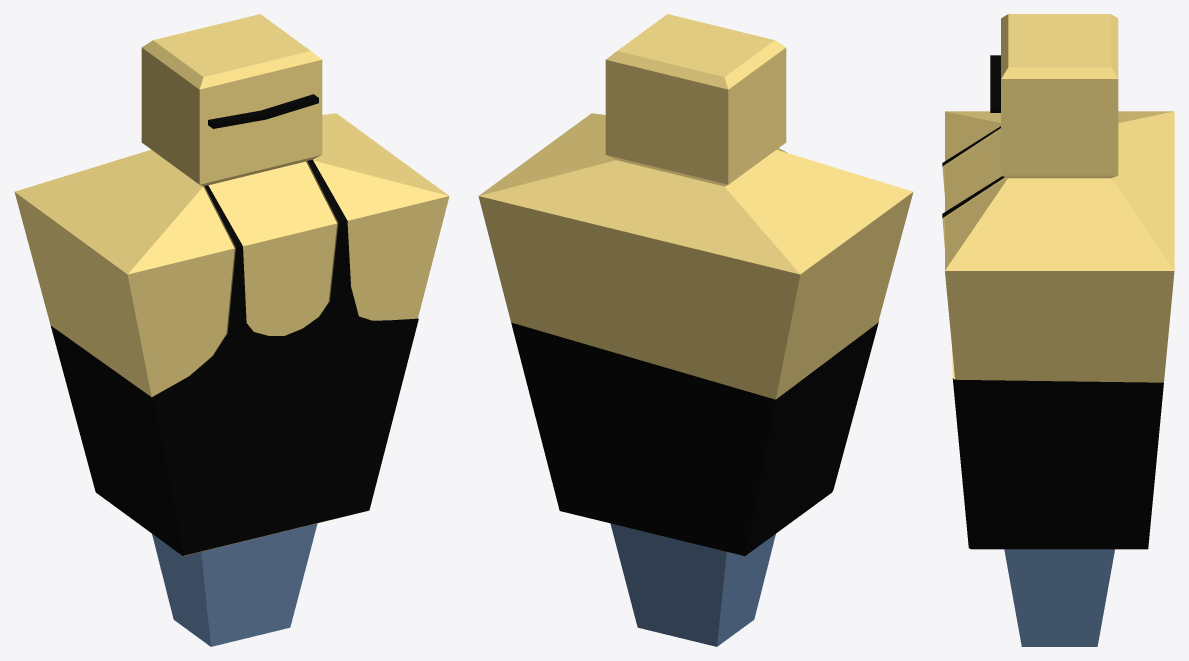
The model's file is Силач.fbx.
The picture shows the model from 3 angles, left to right: view 1: azimuth 30°, elevation 25°; view 2: azimuth 150°, elevation 25°; view 3: azimuth 270°, elevation 25°; orthographic projection.
Parts seen in each view (by area): view 1: Cube; view 2: Cube; view 3: Cube.
Part boxes in pixels (bbox=[...]): Cube: bbox=[14, 14, 449, 646]; Cube: bbox=[478, 14, 913, 646]; Cube: bbox=[942, 14, 1174, 646].
Size of the model in its own units: 275 by 473 by 169.
Materials: 1 (1 with a texture image).
